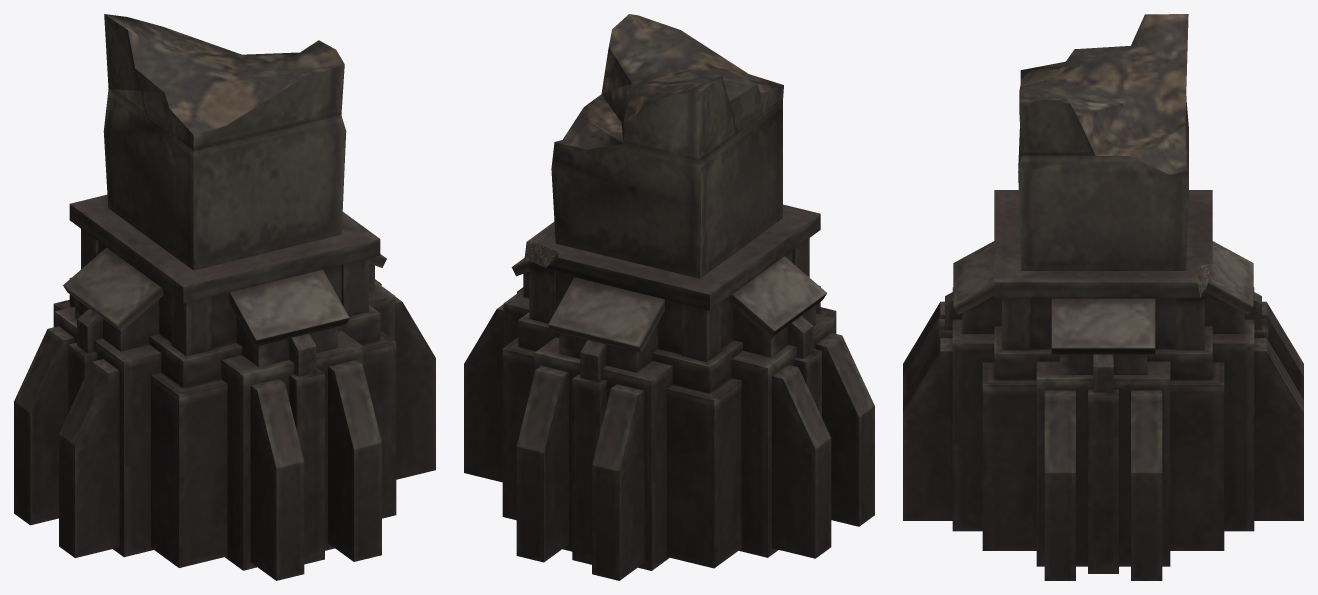
File: jianzhu01.FBX
3 renders of one model, left to right at view 1: azimuth 30°, elevation 25°; view 2: azimuth 150°, elevation 25°; view 3: azimuth 270°, elevation 25°, orthographic. The views are drawn at different scales.
Visible parts, largest first — view 1: obj_polySurface02; view 2: obj_polySurface02; view 3: obj_polySurface02.
Part boxes in pixels (x1=…): obj_polySurface02: x1=14, y1=14, x2=435, y2=580; obj_polySurface02: x1=464, y1=14, x2=874, y2=580; obj_polySurface02: x1=903, y1=14, x2=1303, y2=580.
Size of the model in its own units: 21.38 by 26.76 by 21.38.
